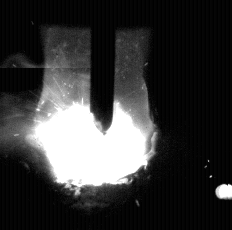arame: (91, 0, 116, 135)
poca: (32, 0, 158, 230)
